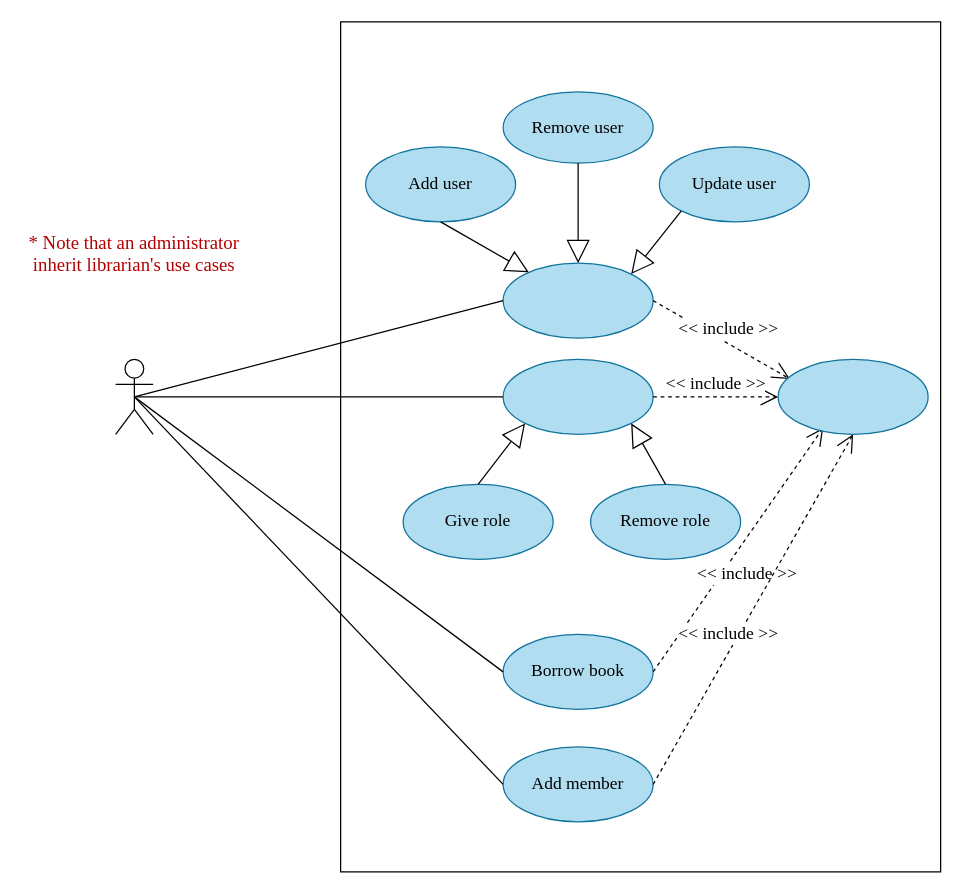
Some shapes in this 963 by 894 pixel diagram are drawn without their labels. The box of each missing label's shape, as (x1, y1, x2, y2) in pixels:
Administrator: (114, 358, 153, 434)
Authentication: (777, 358, 928, 434)
Manage system access: (502, 358, 653, 434)
Manage users: (502, 262, 653, 338)
